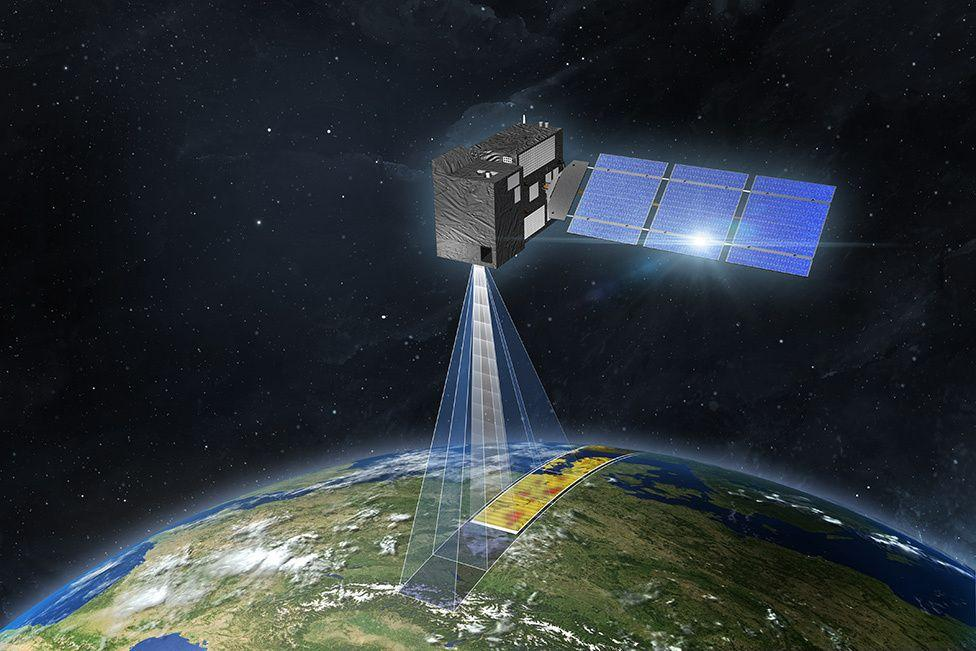body: (429, 117, 567, 272)
solar: (565, 150, 841, 280)
